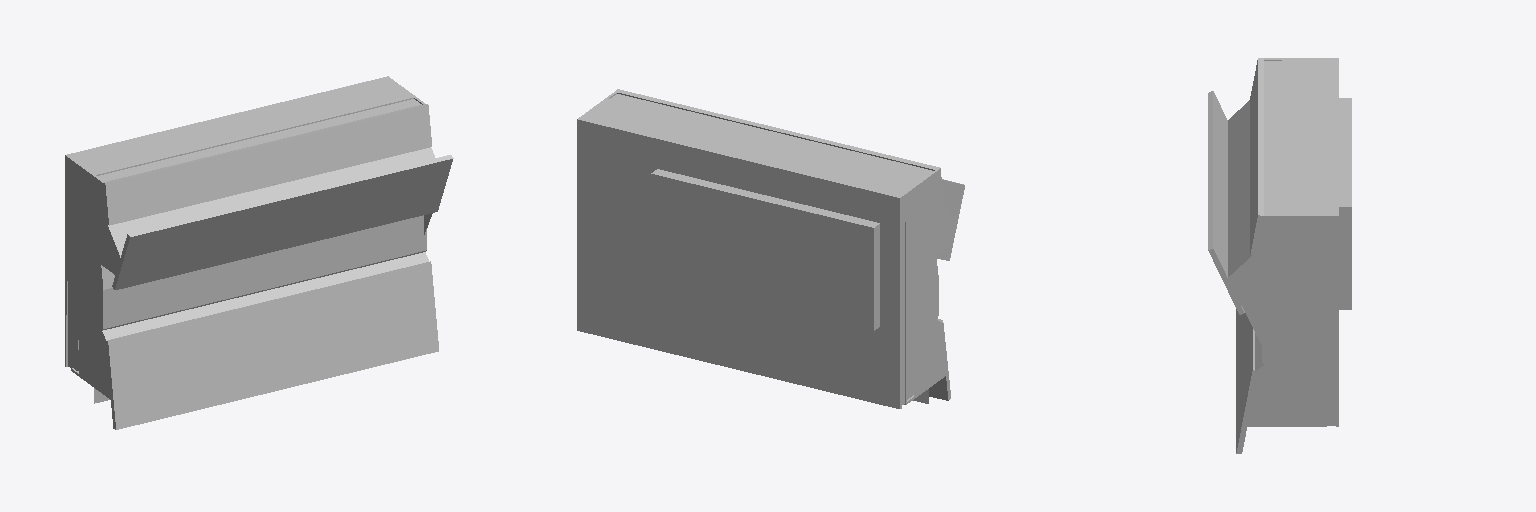
The picture shows the model from 3 angles: view 1: azimuth 30°, elevation 25°; view 2: azimuth 150°, elevation 25°; view 3: azimuth 270°, elevation 25°; orthographic projection.
Parts seen in each view (by area): view 1: OutsideFacade_35, ASHRAE_ZONE3B_32; view 2: OutsideFacade_35, nomaterial, ASHRAE_ZONE3B_32; view 3: OutsideFacade_35, ASHRAE_ZONE3B_32, nomaterial.
Part boxes in pixels (bbox=[...]): OutsideFacade_35: bbox=[65, 76, 453, 429]; ASHRAE_ZONE3B_32: bbox=[68, 99, 434, 370]; OutsideFacade_35: bbox=[577, 89, 964, 408]; nomaterial: bbox=[651, 169, 879, 330]; ASHRAE_ZONE3B_32: bbox=[609, 94, 932, 404]; OutsideFacade_35: bbox=[1208, 58, 1338, 453]; ASHRAE_ZONE3B_32: bbox=[1228, 61, 1335, 425]; nomaterial: bbox=[1339, 98, 1351, 309].
Size of the model in its own units: 40 by 28.31 by 15.4.